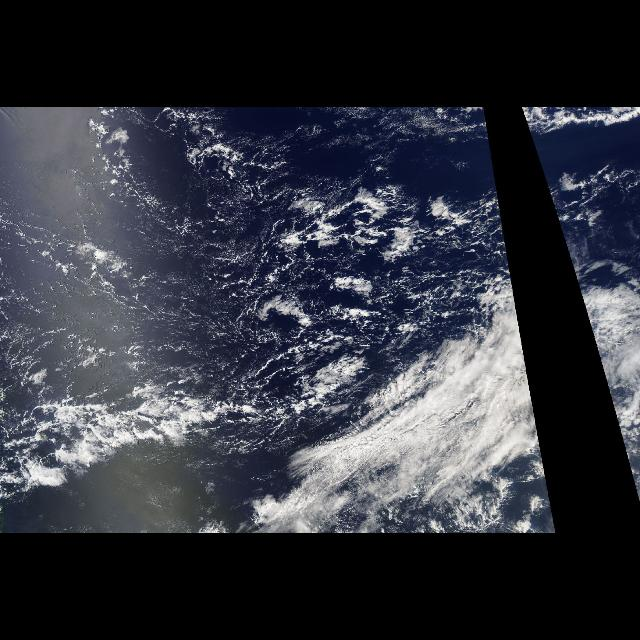Gravel: (105, 182, 433, 412)
Sugar: (142, 149, 232, 399)
